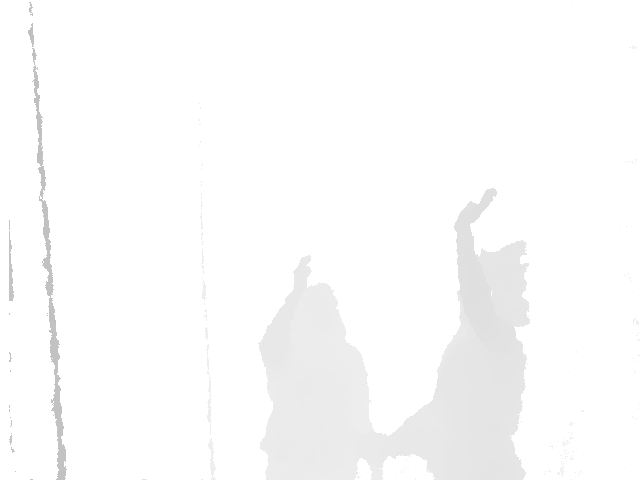hand: (454, 189, 497, 226), (293, 258, 315, 295)
head: (456, 241, 532, 329), (287, 285, 348, 344)
person: (385, 190, 532, 480), (256, 258, 385, 480)
